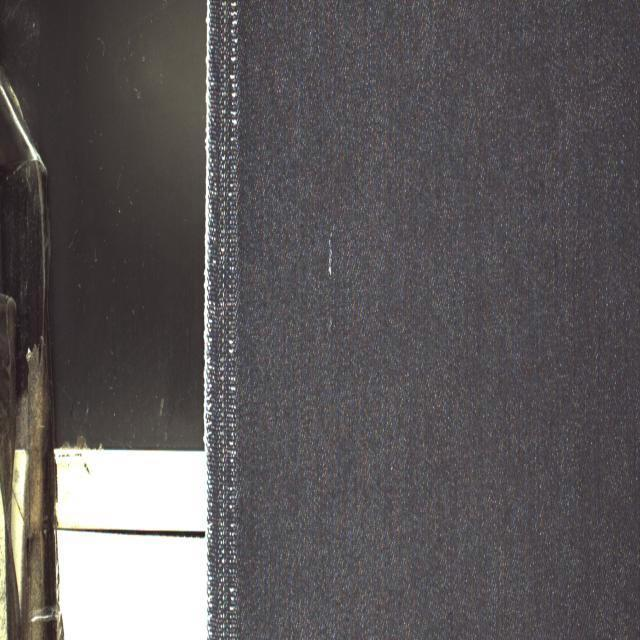pulled_or_thick_thread: (325, 219, 338, 301)
